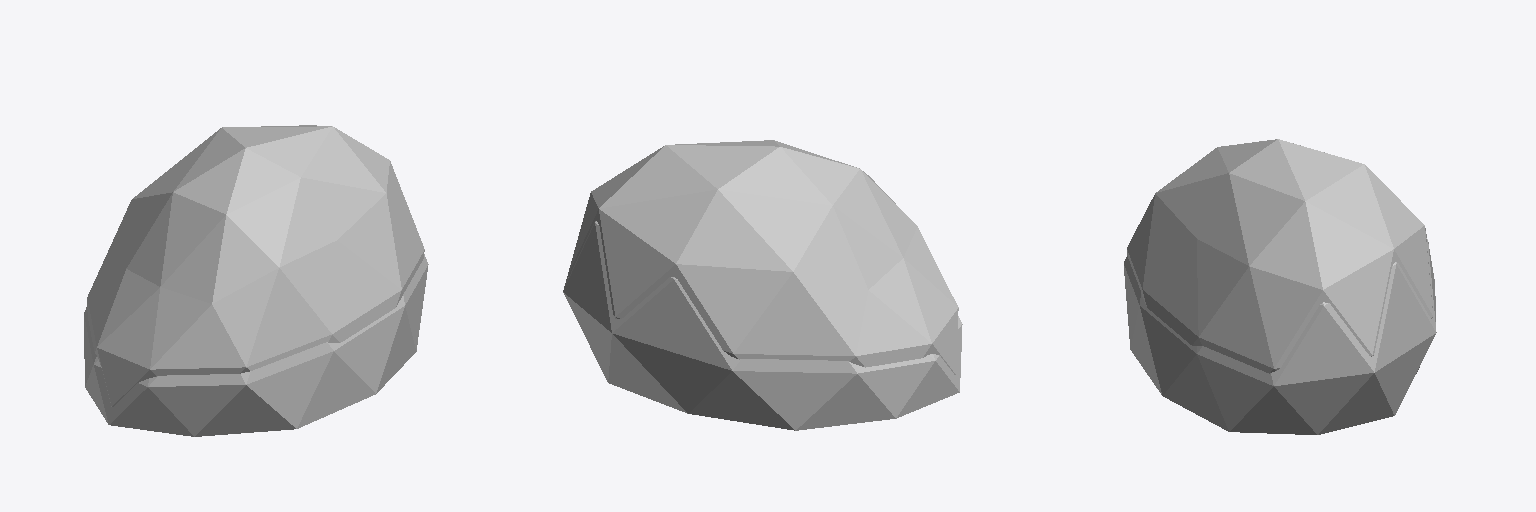
The model's file is IceRock1.obj.
3 views of the same model, side by side, from view 1: azimuth 30°, elevation 25°; view 2: azimuth 150°, elevation 25°; view 3: azimuth 270°, elevation 25° (orthographic).
Parts seen in each view (by area): view 1: IceRock1_Icosphere.005; view 2: IceRock1_Icosphere.005; view 3: IceRock1_Icosphere.005.
Part boxes in pixels (x1,y1,x2,y2): IceRock1_Icosphere.005: (84,125,428,436); IceRock1_Icosphere.005: (563,140,962,430); IceRock1_Icosphere.005: (1124,139,1436,434).
Size of the model in its own units: 0.7304 by 0.4589 by 0.5839.